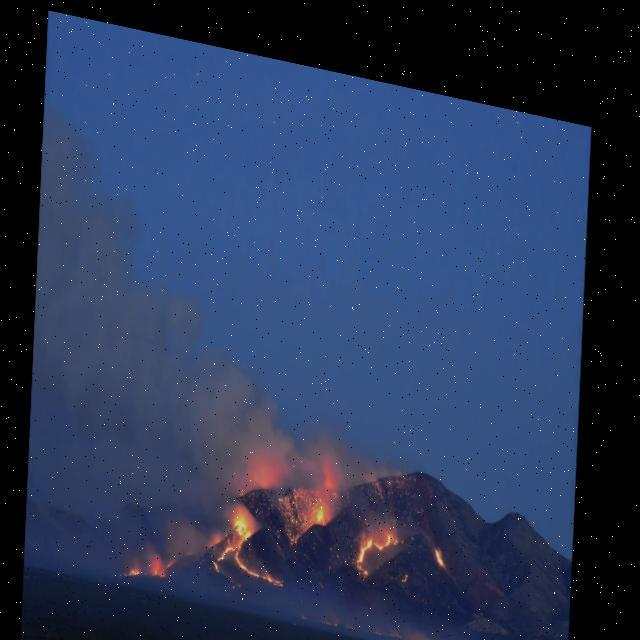Fire: (254, 456, 322, 535), (240, 532, 288, 573), (359, 518, 377, 562), (378, 511, 402, 534), (239, 510, 256, 532), (439, 526, 453, 548), (222, 533, 238, 552), (130, 560, 146, 572), (320, 492, 329, 509), (158, 558, 170, 570), (216, 550, 224, 560), (171, 551, 177, 561), (449, 631, 455, 639), (408, 554, 412, 564)
